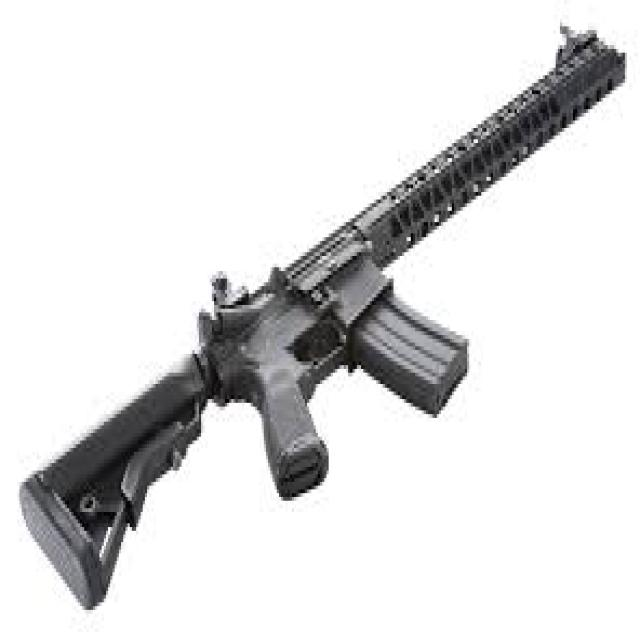rifle: (18, 14, 633, 630)
